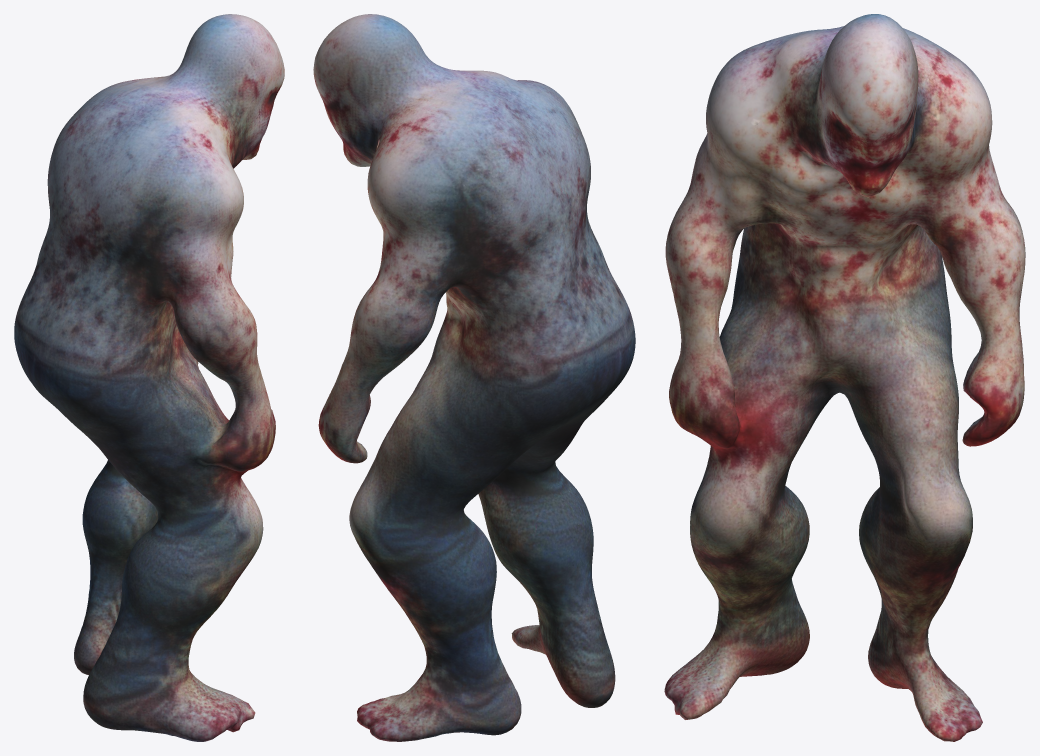
Rendered from zombie1.glb.
3 views of the same model, side by side, from view 1: azimuth 30°, elevation 25°; view 2: azimuth 150°, elevation 25°; view 3: azimuth 270°, elevation 25° (orthographic). The views are drawn at different scales.
Parts seen in each view (by area): view 1: Mesh1; view 2: Mesh1; view 3: Mesh1.
Part boxes in pixels (x1,y1,x2,y2): Mesh1: (14,14,284,741); Mesh1: (313,14,635,741); Mesh1: (664,14,1025,741).
Size of the model in its own units: 0.5223 by 1.2 by 0.5289.
1 material, 1 textured.
